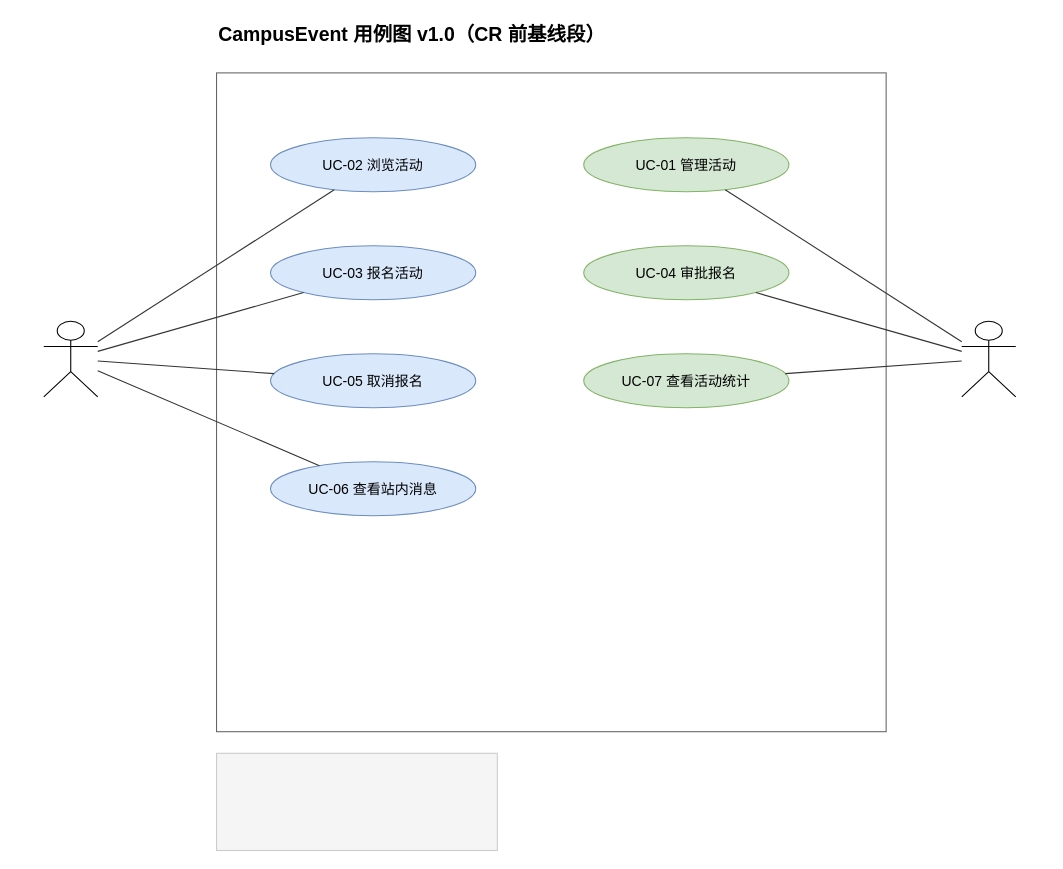
The diagram is 1063 pixels wide and 869 high, and some of its shapes have lost their labels. Here are the shapes that lost their labels. From the top down, the box of each, then its label:
(43, 320, 98, 397): Student（学生）
(961, 320, 1016, 397): Admin（管理员）
(215, 72, 886, 732): CampusEvent 校园活动报名与管理系统
(215, 752, 497, 850): 版本：v1.0 日期：2026-11-22 阶段：CR 前基线段 对应标签：baseline-v1 依据：需求基线 v1.1
